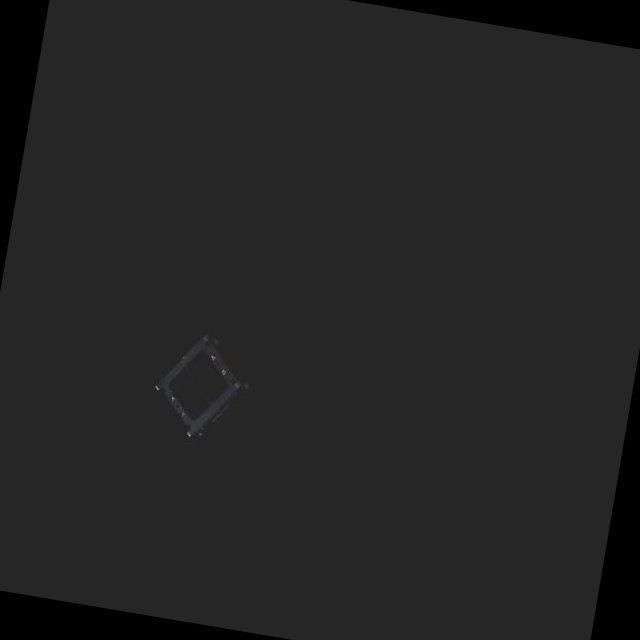satellite: (145, 330, 259, 447)
